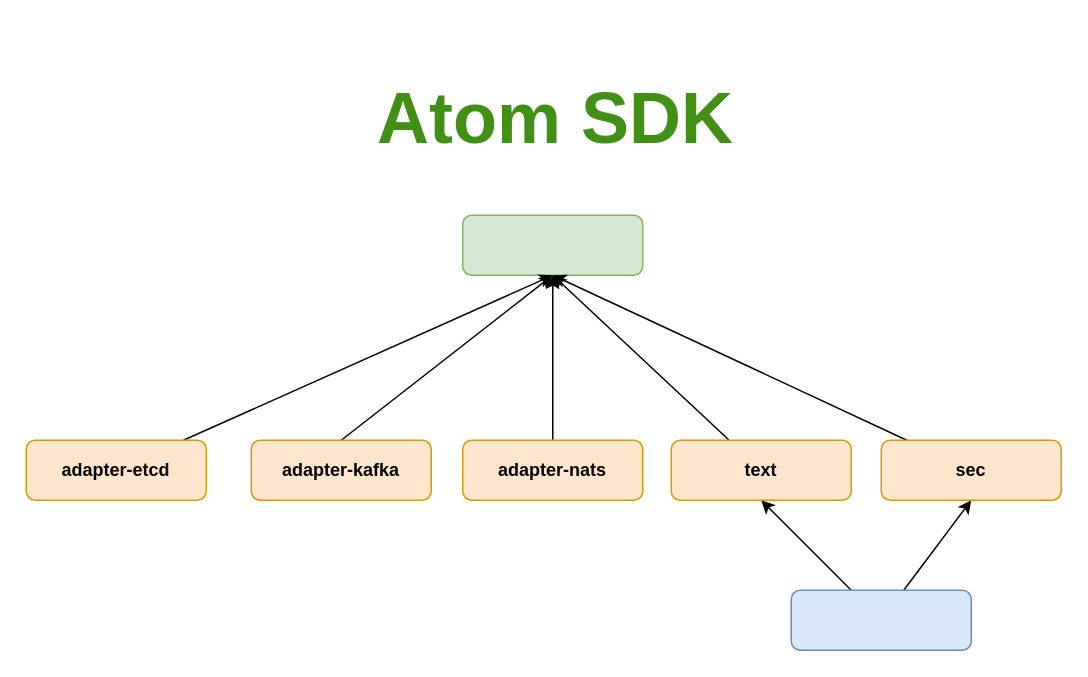
Image size: 1088x677. Some labels were removed from this diagram. Each missing label, with the centre of its shape:
"core" belongs at (552,244).
"web" belongs at (880,619).
